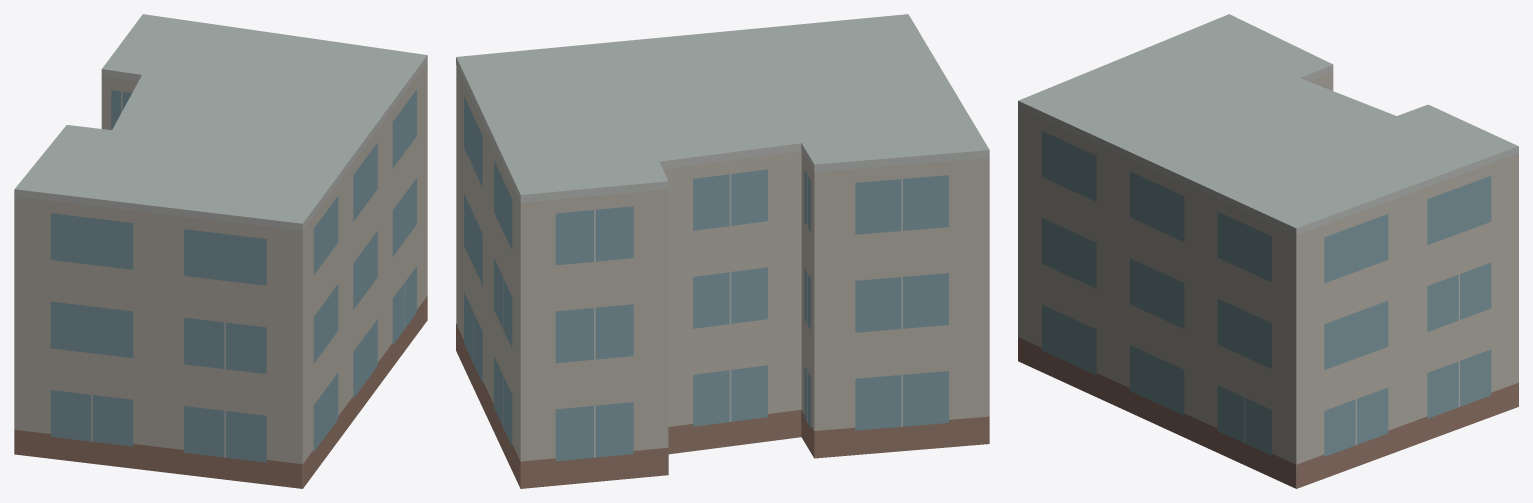
File: survey-upis-32888202.glb
The picture shows the model from 3 angles, left to right: view 1: azimuth 30°, elevation 25°; view 2: azimuth 150°, elevation 25°; view 3: azimuth 270°, elevation 25°; orthographic projection. The views are drawn at different scales.
Visible parts, largest first — view 1: survey-upis-32888202.tmp; view 2: survey-upis-32888202.tmp; view 3: survey-upis-32888202.tmp.
Boxes of the visible parts, bbox=[...] form: survey-upis-32888202.tmp: bbox=[14, 14, 427, 488]; survey-upis-32888202.tmp: bbox=[456, 14, 989, 488]; survey-upis-32888202.tmp: bbox=[1018, 14, 1518, 488].
Bounding box in the file's own units: 16.16 × 9.15 × 15.95.
